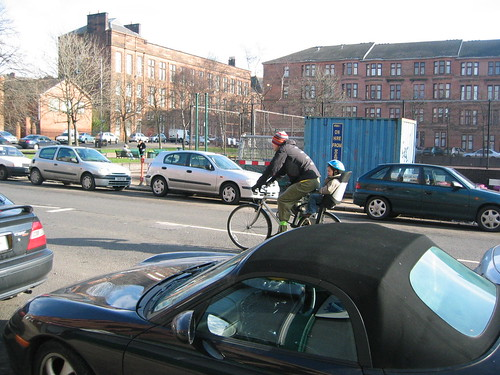helmet: (329, 156, 344, 169)
